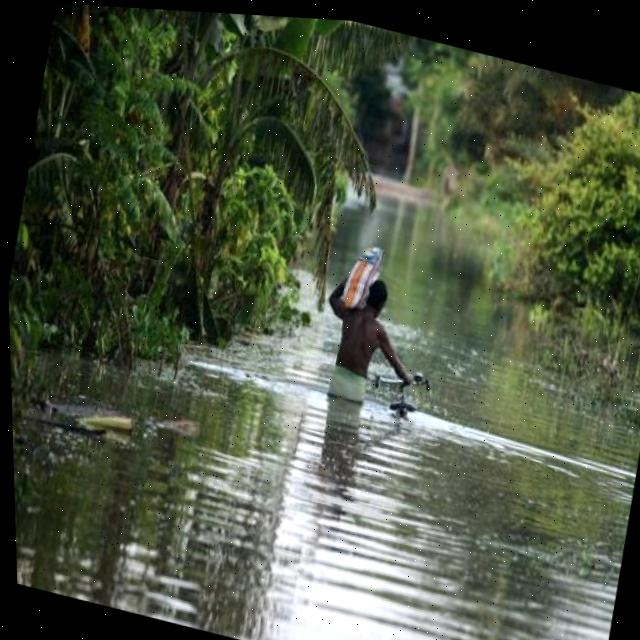civilian: (294, 204, 454, 449)
